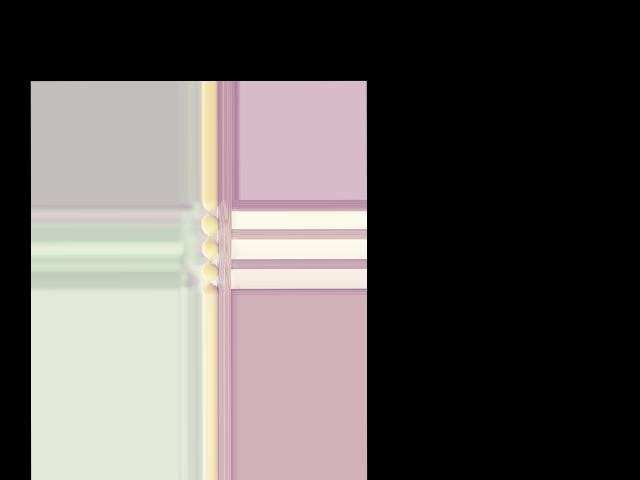lemon: (201, 200, 217, 211)
